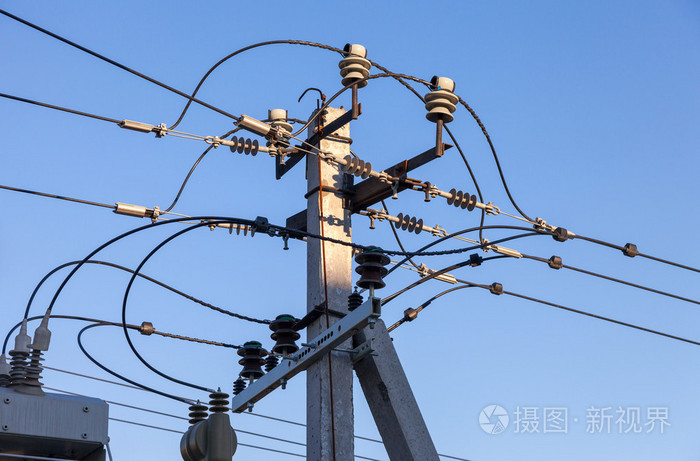insulator: (265, 314, 306, 355), (352, 250, 395, 289), (237, 342, 272, 381), (442, 188, 479, 212), (226, 135, 263, 156), (392, 214, 427, 236), (342, 155, 373, 179), (207, 388, 231, 414), (184, 402, 208, 426), (226, 222, 258, 238)
